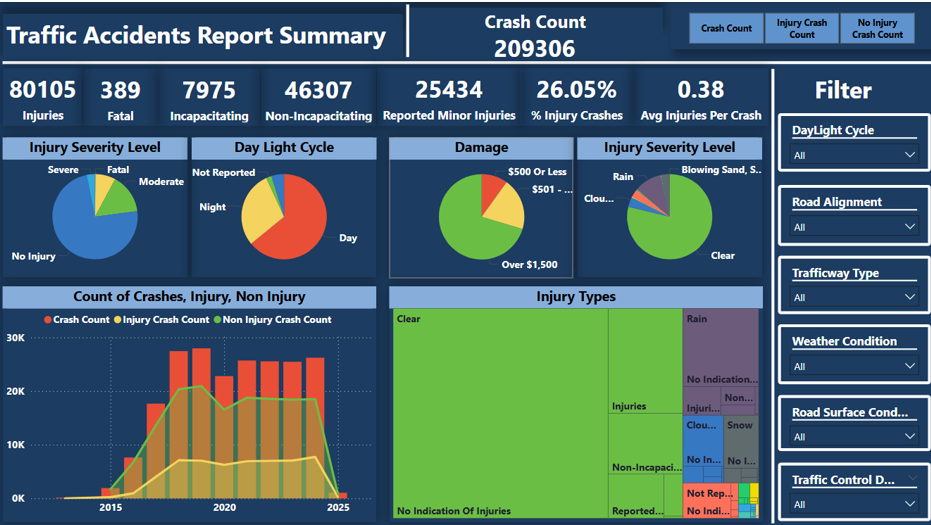

Layout of this report page (visuals, bound fields, positions):
{"tool":"powerbi","page":{"name":"Executive Summary","canvas":[1280,720],"ordinal":0},"visuals":[{"type":"textbox","box":[10,16.7,542.4,61.9],"z":0},{"type":"shape","box":[9.8,76.4,1260.6,14.6],"z":1000},{"type":"card","fields":{"Values":["All Measures.Injuries"]},"box":[10,90.2,108.9,78.8],"z":2000},{"type":"card","fields":{"Values":["All Measures.Fatal Injuries"]},"box":[118.9,91.7,101.7,77.3],"z":3000},{"type":"card","fields":{"Values":["All Measures.Incapacitating Injuries"]},"box":[220.6,91.7,138.9,77.3],"z":4000},{"type":"card","fields":{"Values":["All Measures.Non-Incapacitating Injuries"]},"box":[359.5,91.7,157.6,77.3],"z":5000},{"type":"card","fields":{"Values":["All Measures.Reported Minor Injuries"]},"box":[517.1,90.2,196.2,78.8],"z":6000},{"type":"pieChart","title":"Injury Severity Level","fields":{"Series":["Traffic_Accidents.Injury Severity Level"],"Y":["All Measures.Measure Logic"]},"box":[9.8,185.4,250.5,190],"z":7000},{"type":"textbox","box":[1060.5,91.1,178.9,61.8],"z":8000},{"type":"slicer","fields":{"Values":["Traffic_Accidents.DayLight Cycle"]},"box":[1061.1,152.1,207.4,79.5],"z":9000},{"type":"slicer","fields":{"Values":["Traffic_Accidents.Road Alignment"]},"box":[1061.1,248.9,207.4,83],"z":10000},{"type":"slicer","fields":{"Values":["Traffic_Accidents.Trafficway Type"]},"box":[1061.1,345.6,207.4,79.5],"z":11000},{"type":"slicer","fields":{"Values":["Traffic_Accidents.Weather Condition"]},"box":[1061.1,439,207.4,81.2],"z":12000},{"type":"slicer","fields":{"Values":["Traffic_Accidents.Road Surface Condition"]},"box":[1061.1,534,207.4,76],"z":13000},{"type":"slicer","fields":{"Values":["Traffic_Accidents.Traffic Control Device"]},"box":[1061.1,625.6,207.4,79.5],"z":14000},{"type":"slicer","fields":{"Values":["Selection Table.Measure"]},"box":[915.3,8.6,355.2,55.9],"z":15000},{"type":"card","fields":{"Values":["All Measures.Measure Logic"]},"box":[653.9,27.7,156.1,73.2],"z":16000},{"type":"card","fields":{"Values":["All Measures.Measure Selected"]},"box":[559.3,8.7,346.7,38.3],"z":17000},{"type":"shape","box":[550,4.3,18.6,71.6],"z":18000},{"type":"card","fields":{"Values":["All Measures.% Injury Crashes"]},"box":[711.9,90.2,153.3,78.8],"z":19000},{"type":"card","fields":{"Values":["All Measures.Avg Injuries Per Crash"]},"box":[865.2,90.2,183.3,78.8],"z":20000},{"type":"shape","box":[1049,91.6,12.1,617],"z":21000},{"type":"pieChart","title":"Day Light Cycle","fields":{"Y":["All Measures.Measure Logic"],"Series":["Traffic_Accidents.DayLight Cycle"]},"box":[266.1,184.9,250.6,190.1],"z":22000},{"type":"lineClusteredColumnComboChart","title":"Count of Crashes, Injury, Non Injury","fields":{"Y":["All Measures.Crash Count"],"Category":["Date_Table.Calendar.Year"],"Y2":["All Measures.Injury Crash Count","All Measures.Non Injury Crash Count"]},"box":[10.4,387.1,506.4,319.7],"z":23000},{"type":"pieChart","title":"Damage","fields":{"Y":["All Measures.Measure Logic"],"Series":["Traffic_Accidents.Damage"]},"box":[534,184.9,250,190.1],"z":24000},{"type":"pieChart","title":"Weather Conditions","fields":{"Series":["Traffic_Accidents.Weather Condition"],"Y":["All Measures.Measure Logic"]},"box":[789.8,184.9,250.6,190.1],"z":25000},{"type":"treemap","title":"Injury Types","fields":{"Values":["All Measures.Fatal Injuries","All Measures.Incapacitating Injuries","All Measures.Injuries","All Measures.No Indication Of Injuries","All Measures.Non-Incapacitating Injuries","All Measures.Reported Minor Injuries"],"Group":["Traffic_Accidents.Weather Condition","Traffic_Accidents.DayLight Cycle"]},"box":[534,387.1,506.4,319.7],"z":26000}]}

Visuals, with their boxes in screenshot pixels (x1, y1, x2, y2), scaled from the page's 1280x720 canvas onto the 931x525 screenshot:
textbox: bbox=(7, 12, 402, 57)
shape: bbox=(7, 56, 924, 66)
card - All Measures.Injuries: bbox=(7, 66, 86, 123)
card - All Measures.Fatal Injuries: bbox=(86, 67, 160, 123)
card - All Measures.Incapacitating Injuries: bbox=(160, 67, 261, 123)
card - All Measures.Non-Incapacitating Injuries: bbox=(261, 67, 376, 123)
card - All Measures.Reported Minor Injuries: bbox=(376, 66, 519, 123)
"Injury Severity Level" pieChart: bbox=(7, 135, 189, 274)
textbox: bbox=(771, 66, 901, 111)
slicer - Traffic_Accidents.DayLight Cycle: bbox=(772, 111, 923, 169)
slicer - Traffic_Accidents.Road Alignment: bbox=(772, 181, 923, 242)
slicer - Traffic_Accidents.Trafficway Type: bbox=(772, 252, 923, 310)
slicer - Traffic_Accidents.Weather Condition: bbox=(772, 320, 923, 379)
slicer - Traffic_Accidents.Road Surface Condition: bbox=(772, 389, 923, 445)
slicer - Traffic_Accidents.Traffic Control Device: bbox=(772, 456, 923, 514)
slicer - Selection Table.Measure: bbox=(666, 6, 924, 47)
card - All Measures.Measure Logic: bbox=(476, 20, 589, 74)
card - All Measures.Measure Selected: bbox=(407, 6, 659, 34)
shape: bbox=(400, 3, 414, 55)
card - All Measures.% Injury Crashes: bbox=(518, 66, 629, 123)
card - All Measures.Avg Injuries Per Crash: bbox=(629, 66, 763, 123)
shape: bbox=(763, 67, 772, 517)
"Day Light Cycle" pieChart: bbox=(194, 135, 376, 273)
"Count of Crashes, Injury, Non Injury" lineClusteredColumnComboChart: bbox=(8, 282, 376, 515)
"Damage" pieChart: bbox=(388, 135, 570, 273)
"Weather Conditions" pieChart: bbox=(574, 135, 757, 273)
"Injury Types" treemap: bbox=(388, 282, 757, 515)
